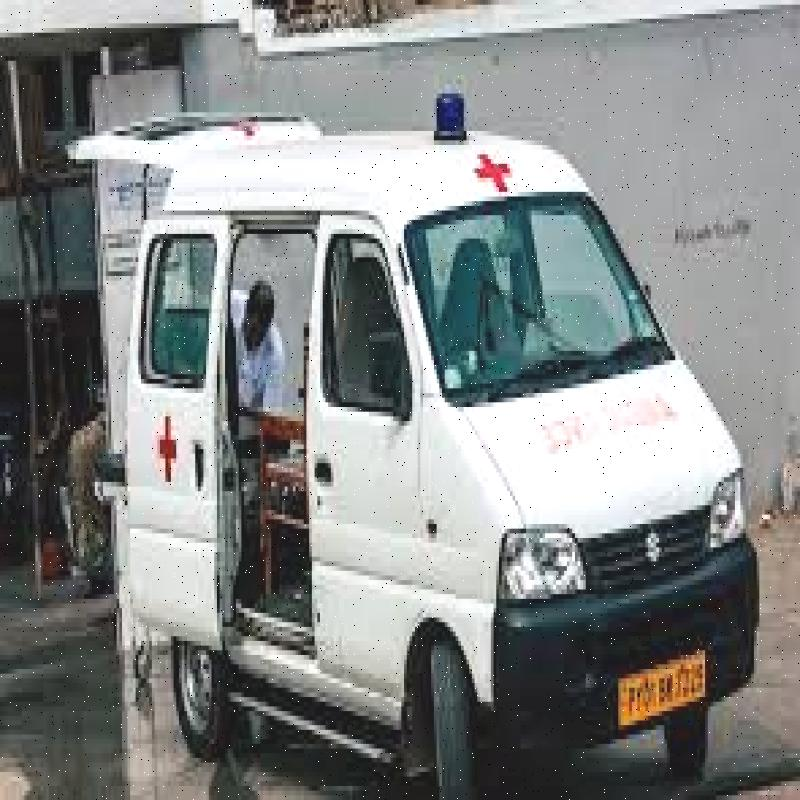ambulance: (127, 128, 703, 768)
